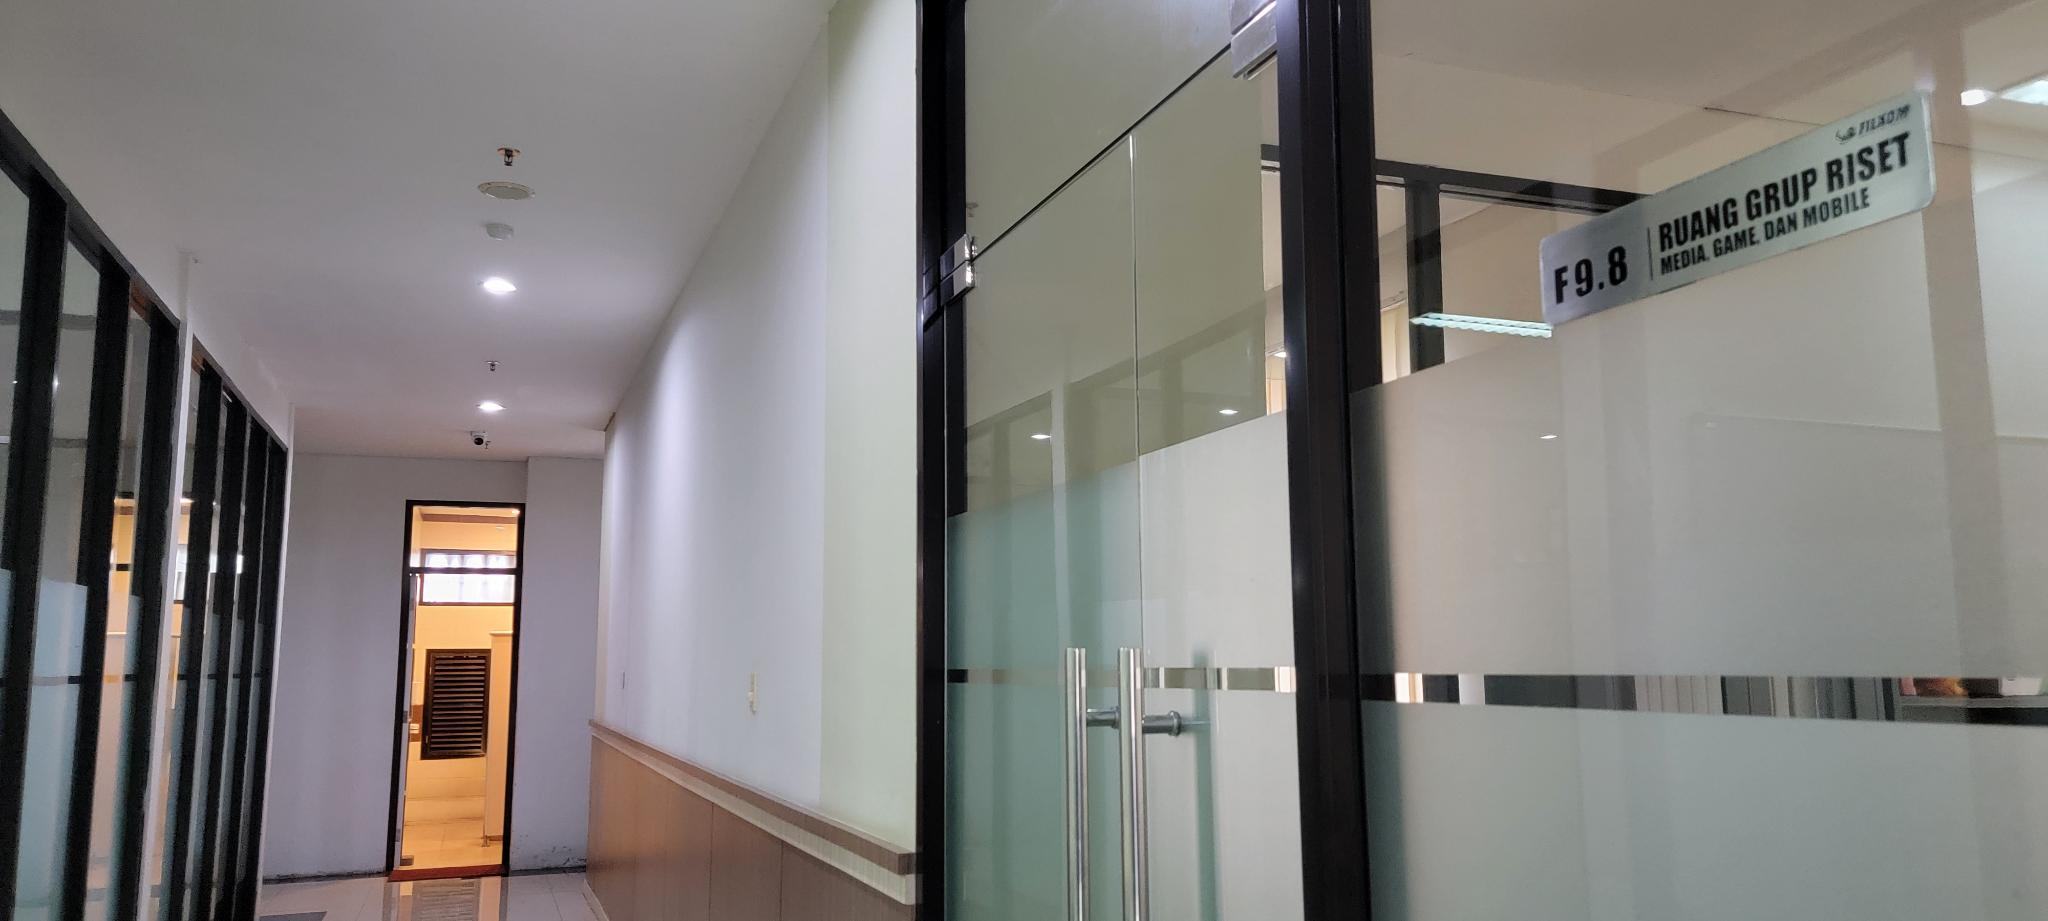plate: (1536, 88, 1940, 329)
